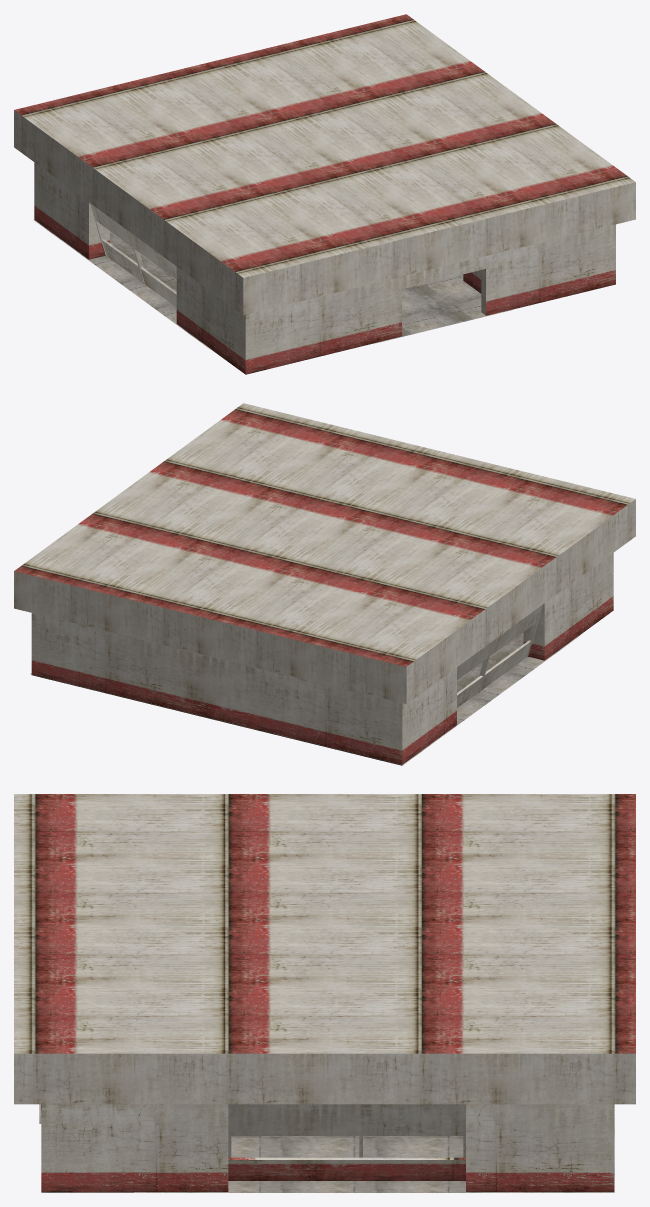
File: Garage.FBX
The picture shows the model from 3 angles, top to bottom: view 1: azimuth 30°, elevation 25°; view 2: azimuth 150°, elevation 25°; view 3: azimuth 270°, elevation 25°; orthographic projection. The views are drawn at different scales.
Parts seen in each view (by area): view 1: Room; view 2: Room; view 3: Room.
Part boxes in pixels (box(x1,y1,x2,y2)): Room: box(14, 14, 635, 374); Room: box(14, 403, 635, 765); Room: box(14, 794, 635, 1192).
Size of the model in its own units: 2060 by 554 by 2086.
Materials: 4 (4 with a texture image).
